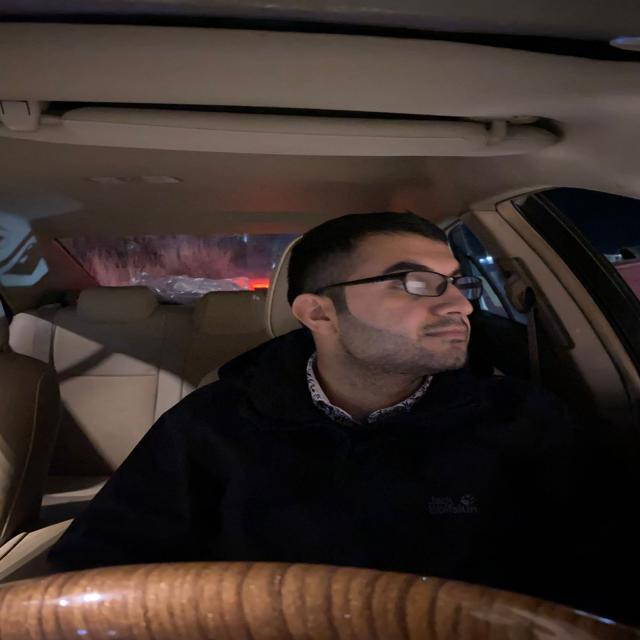LeftRight: (287, 224, 490, 375)
